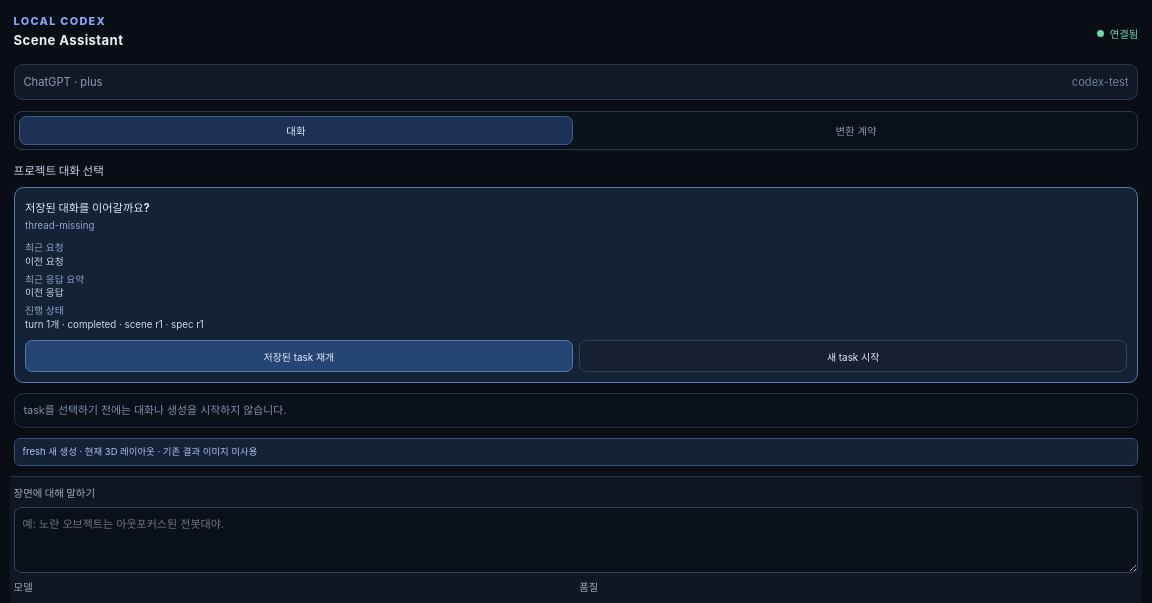
SceneAssistantPanel › 저장 task 재개 실패 뒤에도 명시적으로 새 task를 시작할 수 있다
Click the button "저장된 task 재개": [299, 356] box [25, 340, 573, 372]
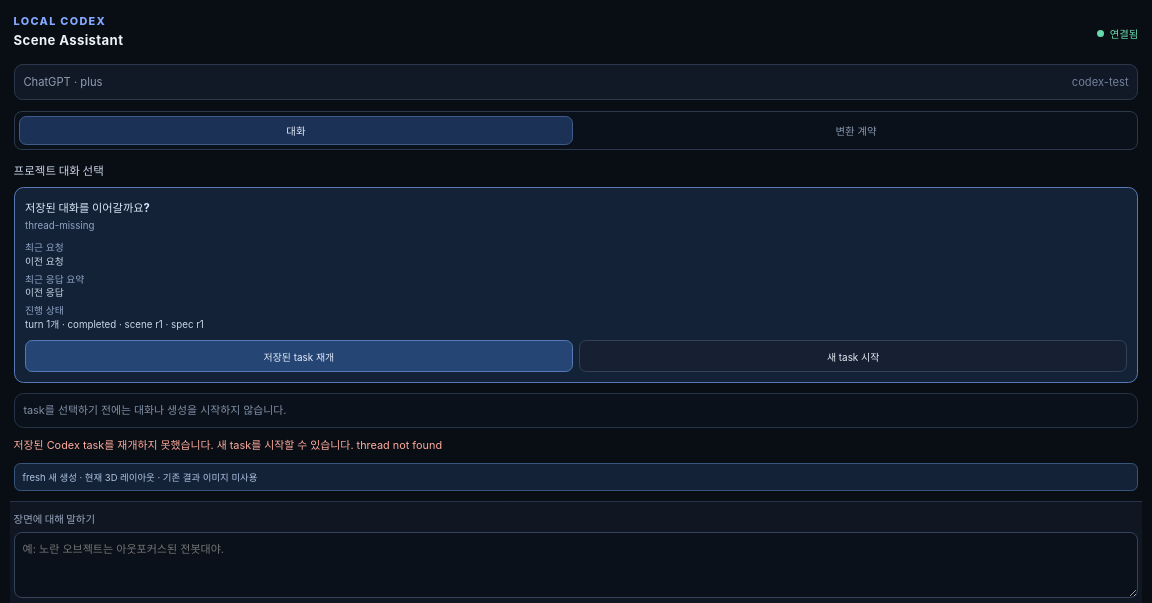
Check: the element named "저장된 Codex task 선택" is shown, box [14, 187, 1138, 383]
Check: the message "저장된 Codex task를 재개하지 못했습니다. 새 task를 시작할 수 있습니다. thread not found" is shown, box [14, 438, 442, 452]
Click the button "새 task 시작": [853, 356] box [579, 340, 1127, 372]
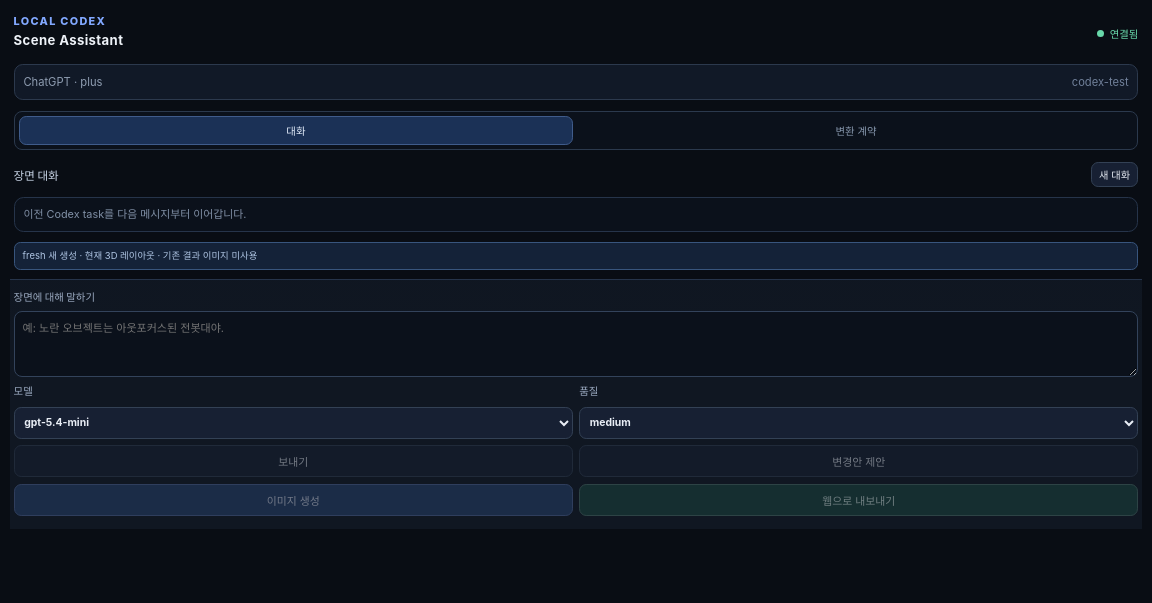
Check: the text "장면 대화" is shown, box [14, 166, 59, 182]
